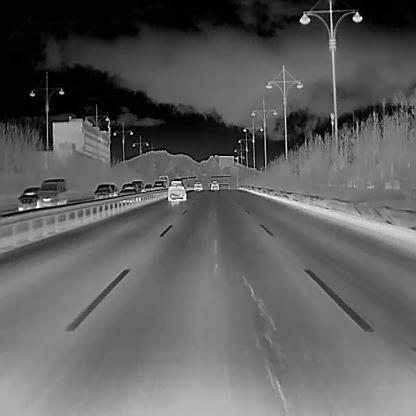car: (39, 178, 67, 206), (17, 186, 39, 210), (167, 179, 187, 201), (92, 182, 118, 197), (118, 183, 139, 194), (153, 180, 166, 190), (209, 179, 219, 191), (193, 180, 203, 191), (144, 182, 152, 191)
